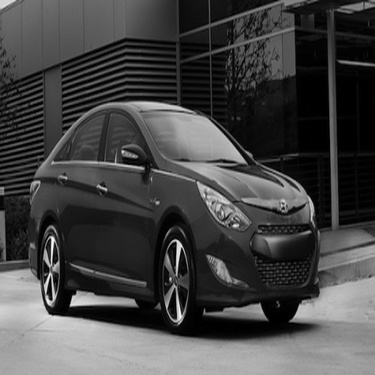car: (10, 86, 327, 344)
